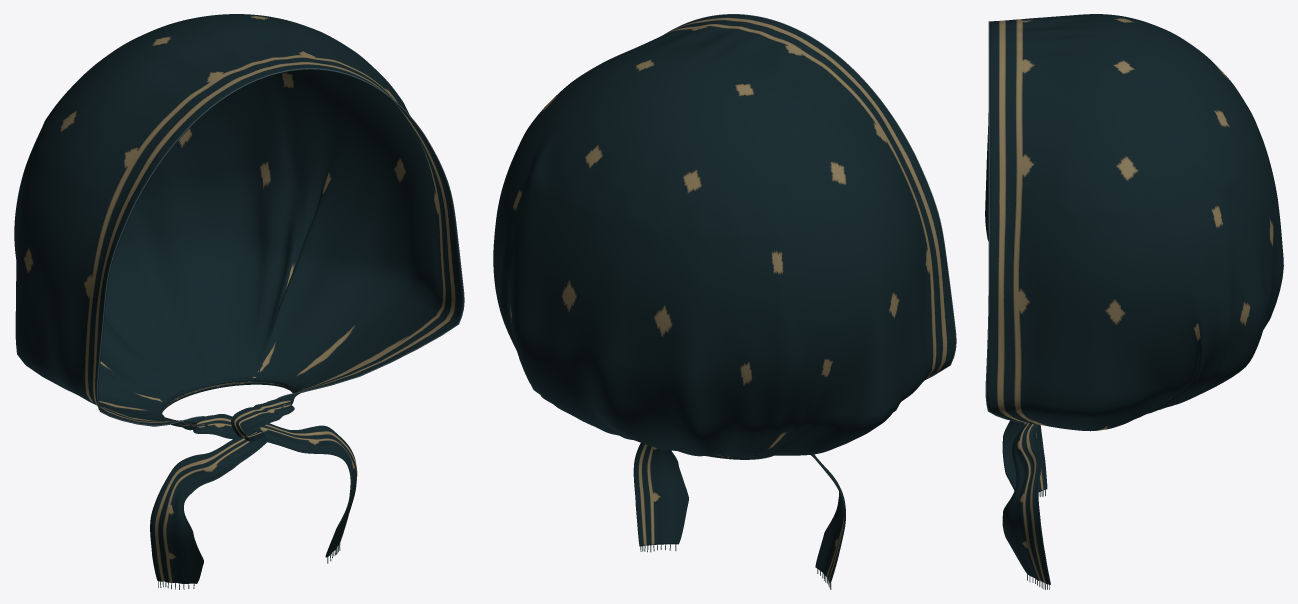
The model's file is Feminine-tshirt-pashmina244-headgear.glb.
3 views of the same model, side by side, from view 1: azimuth 30°, elevation 25°; view 2: azimuth 150°, elevation 25°; view 3: azimuth 270°, elevation 25° (orthographic). The views are drawn at different scales.
Visible parts, largest first — view 1: 226 headgear / Headwear / continuous woven pashmina239, 226 headgear / Headwear / face edge239; view 2: 226 headgear / Headwear / continuous woven pashmina239, 226 headgear / Headwear / face edge239; view 3: 226 headgear / Headwear / continuous woven pashmina239, 226 headgear / Headwear / face edge239.
Boxes of the visible parts, x1,y1,x2,y2 form: 226 headgear / Headwear / continuous woven pashmina239: (14, 14, 463, 583); 226 headgear / Headwear / face edge239: (96, 68, 464, 426); 226 headgear / Headwear / continuous woven pashmina239: (493, 14, 955, 583); 226 headgear / Headwear / face edge239: (664, 14, 956, 379); 226 headgear / Headwear / continuous woven pashmina239: (985, 14, 1283, 584); 226 headgear / Headwear / face edge239: (985, 21, 1026, 423).
Bounding box in the file's own units: 1.02 × 1.35 × 0.7116.
Materials: 3 (1 with a texture image).
